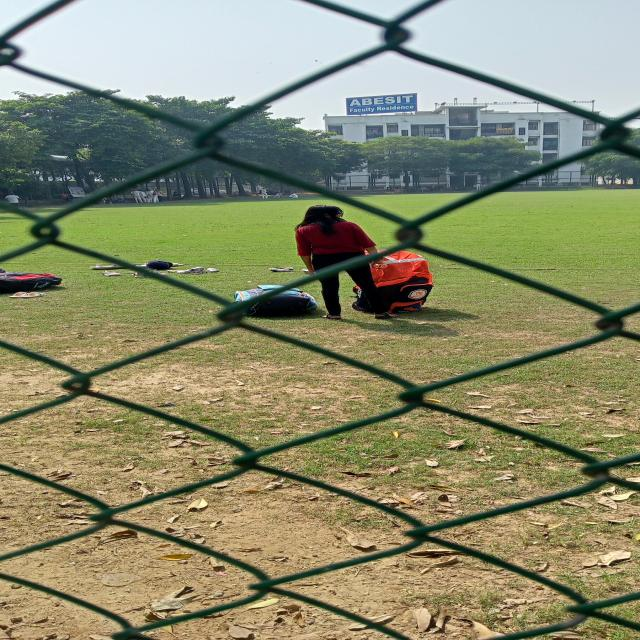unsafe: (289, 203, 380, 320)
